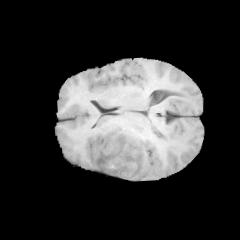glioma: (87, 126, 149, 179)
